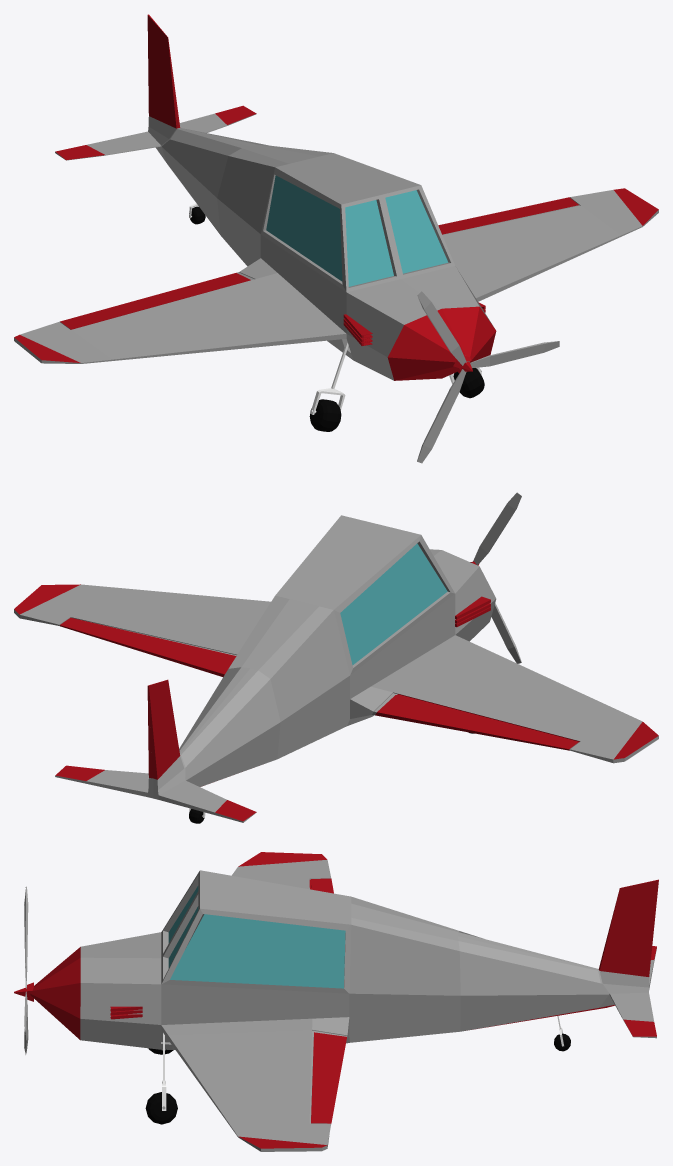
The picture shows the model from 3 angles, top to bottom: view 1: azimuth 30°, elevation 25°; view 2: azimuth 150°, elevation 25°; view 3: azimuth 270°, elevation 25°; orthographic projection.
Parts seen in each view (by area): view 1: Cube_2.001, Cube_2.002, Cube_2, Cube:2, Cube:0, Cube:1, Wheel_1; view 2: Cube_2.001, Cube_2.002, Cube_2, Cube:1, Cube:2; view 3: Cube_2.001, Cube_2.002, Cube_2, Wheel_2.
Boxes of the visible parts, left/top/right/bottom form: Cube_2.001: left=14, top=113, right=658, bottom=380; Cube_2.002: left=14, top=14, right=658, bottom=380; Cube_2: left=266, top=175, right=448, bottom=286; Cube:2: left=417, top=369, right=466, bottom=463; Cube:0: left=470, top=341, right=559, bottom=368; Cube:1: left=417, top=291, right=466, bottom=365; Wheel_1: left=309, top=399, right=341, bottom=431; Cube_2.001: left=14, top=515, right=658, bottom=822; Cube_2.002: left=14, top=584, right=658, bottom=821; Cube_2: left=340, top=543, right=447, bottom=665; Cube:1: left=473, top=492, right=521, bottom=565; Cube:2: left=491, top=603, right=521, bottom=663; Cube_2.001: left=80, top=859, right=656, bottom=1151; Cube_2.002: left=30, top=852, right=658, bottom=1148; Cube_2: left=168, top=886, right=345, bottom=988; Wheel_2: left=145, top=1092, right=177, bottom=1124.
Bounding box in the file's own units: 8.69 × 2.88 × 7.98.
